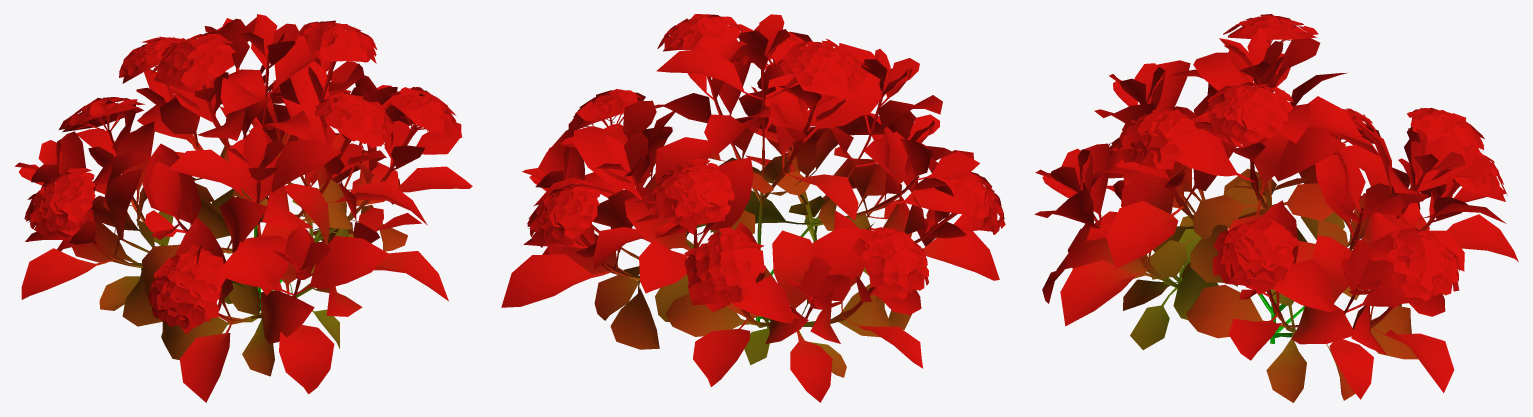
Rendered from Var1_LOD3.fbx.
3 views of the same model, side by side, from view 1: azimuth 30°, elevation 25°; view 2: azimuth 150°, elevation 25°; view 3: azimuth 270°, elevation 25° (orthographic). The views are drawn at different scales.
Parts seen in each view (by area): view 1: _iuqp_Var1_LOD3; view 2: _iuqp_Var1_LOD3; view 3: _iuqp_Var1_LOD3.
Part boxes in pixels (left/top/right/bottom): _iuqp_Var1_LOD3: left=14, top=14, right=472, bottom=402; _iuqp_Var1_LOD3: left=501, top=14, right=1005, bottom=402; _iuqp_Var1_LOD3: left=1034, top=14, right=1518, bottom=402.
Bounding box in the file's own units: 104 × 72.13 × 105.
